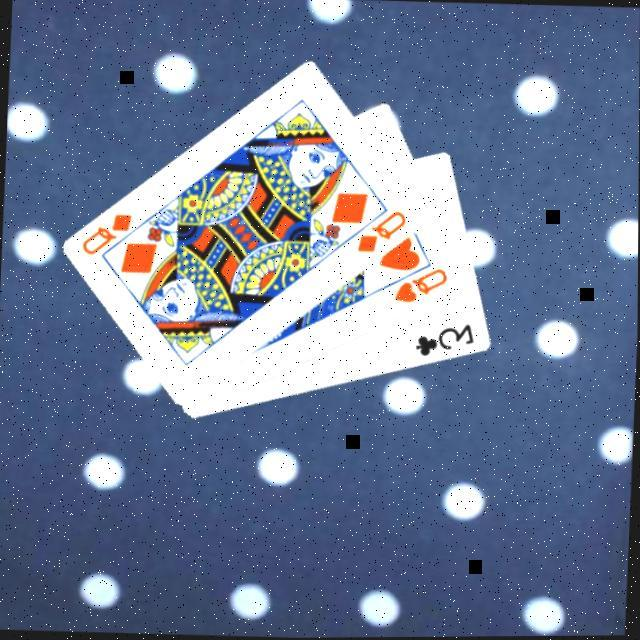3C: (414, 318, 478, 360)
QD: (78, 206, 136, 258), (354, 205, 410, 255)
QH: (393, 262, 452, 306)
